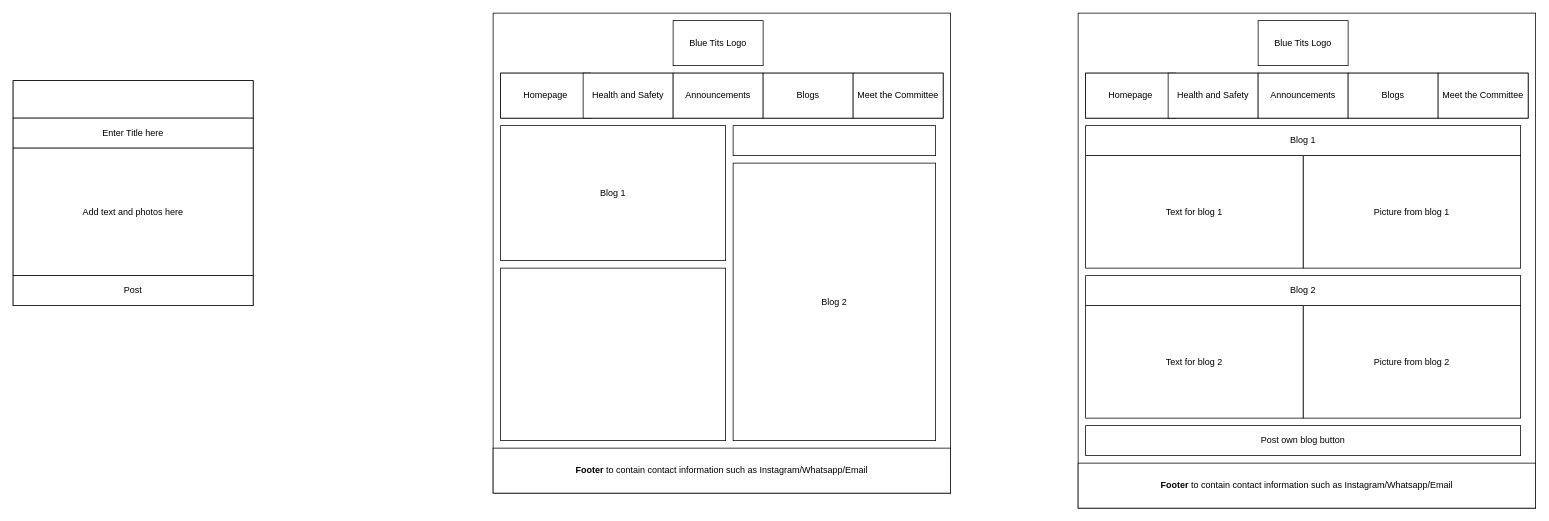
The diagram is 1549 pixels wide and 521 high, and some of its shapes have lost their labels. The centre of each missing label's shape, as x and y in pixels:
"Blog 3" belongs at point 613,354.
"Button to post blog" belongs at point 834,140.
"Create your own blog popup" belongs at point 132,99.
